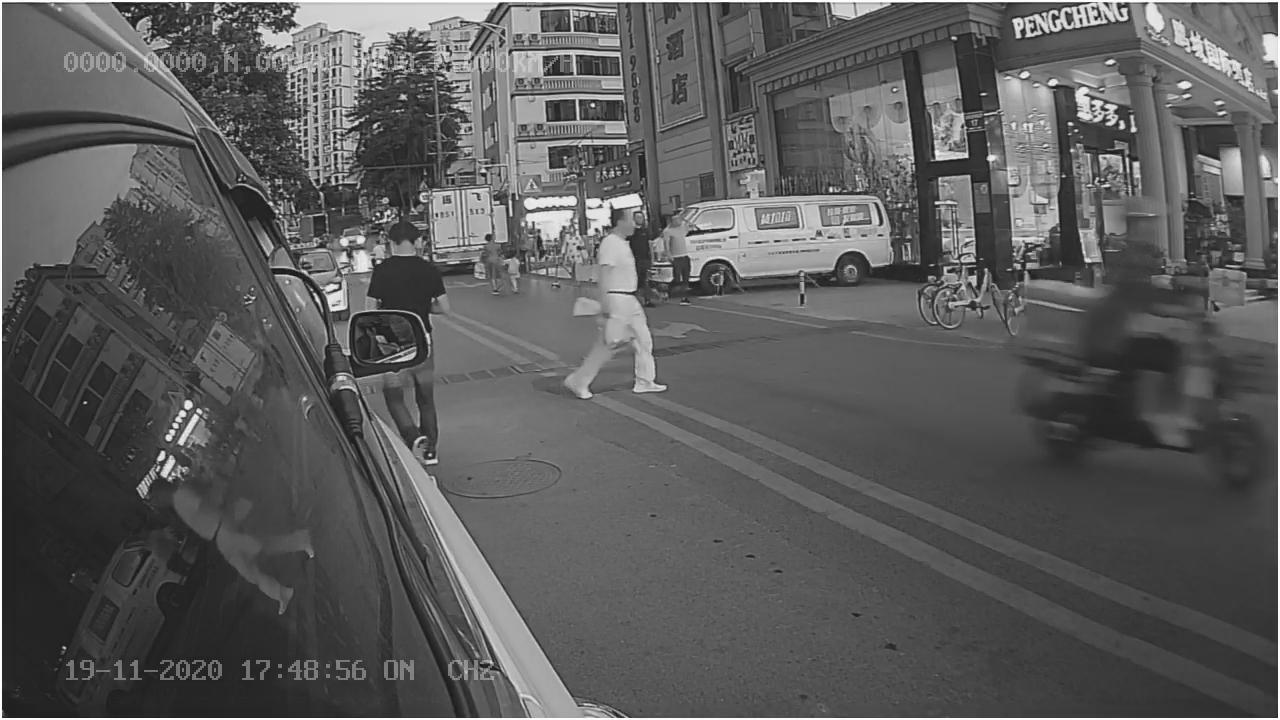person: (561, 210, 668, 409)
